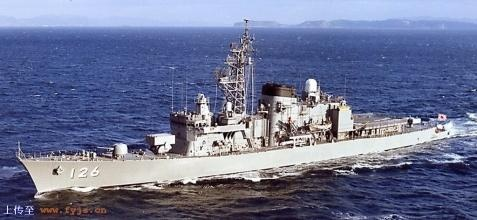warship: (8, 30, 451, 194)
